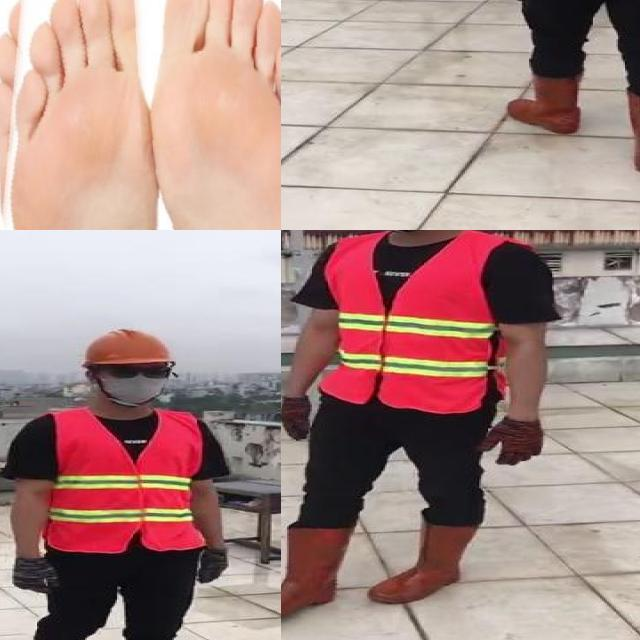Barefoots: (0, 0, 172, 230), (154, 0, 281, 230)
boots: (369, 522, 477, 606), (281, 528, 353, 620), (508, 71, 582, 133), (627, 88, 640, 173)
face_mask: (98, 361, 180, 402)
glasses: (98, 360, 180, 383)
hand_glove: (477, 421, 543, 465), (12, 557, 64, 593), (281, 394, 315, 443), (194, 548, 232, 583)
head_helmet: (80, 324, 170, 367)
person: (281, 230, 558, 627), (3, 321, 237, 640), (481, 0, 640, 177)
vest: (324, 230, 502, 413), (37, 410, 204, 552)
